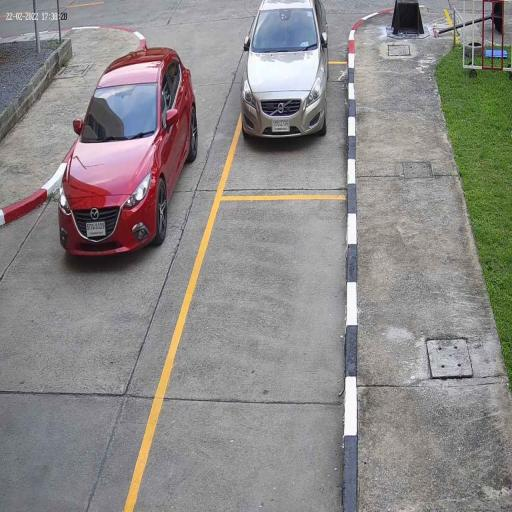car: (57, 45, 199, 258), (241, 0, 329, 141)
